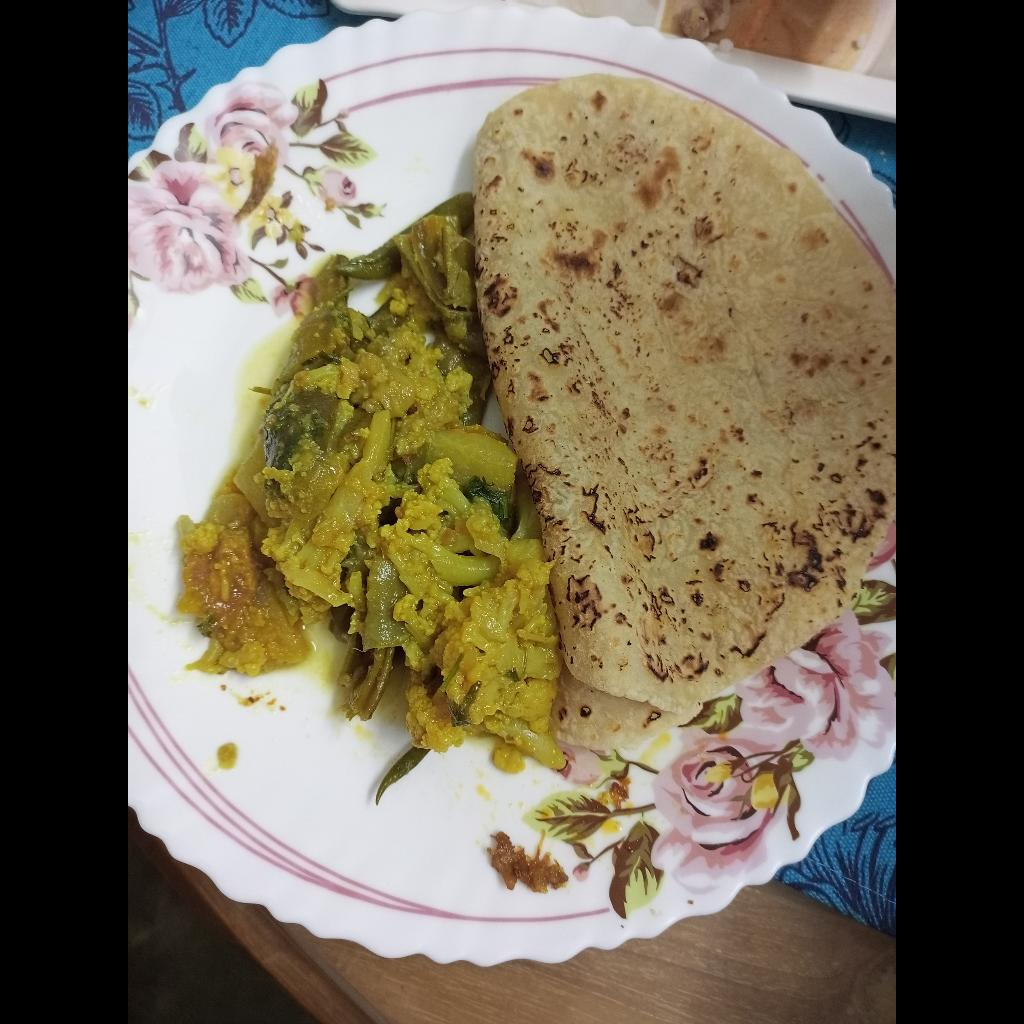cauliflower: (172, 189, 575, 817)
ruti: (475, 71, 896, 749)
